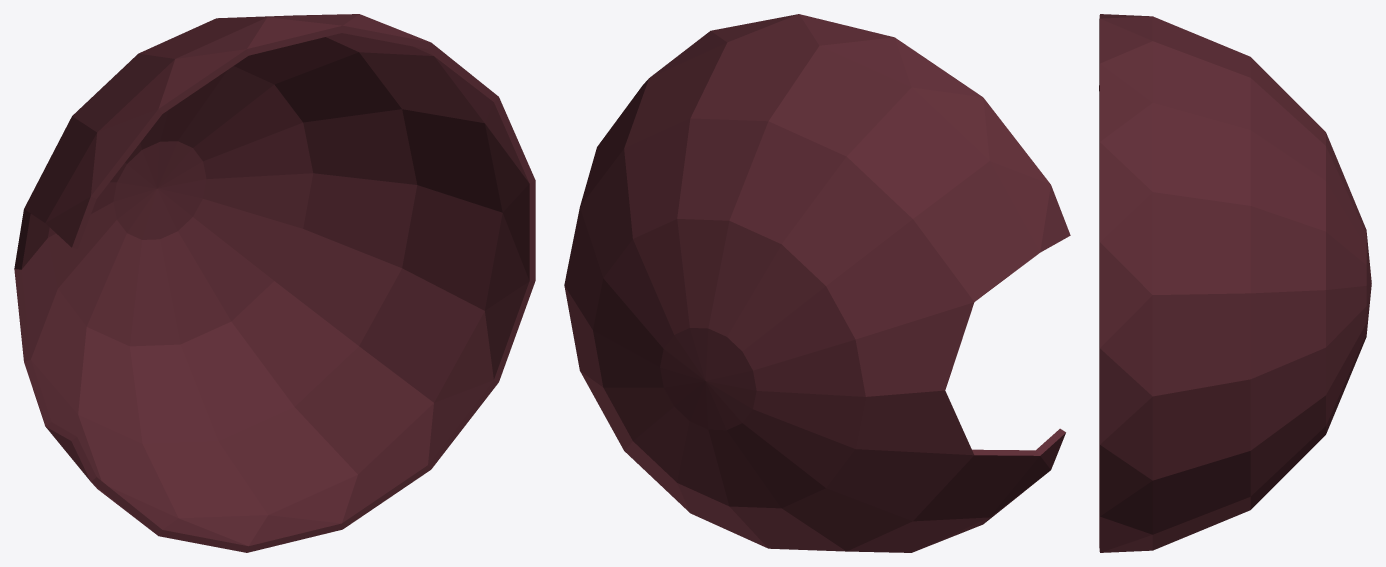
The model's file is CoconutHide.fbx.
3 renders of one model, left to right at view 1: azimuth 30°, elevation 25°; view 2: azimuth 150°, elevation 25°; view 3: azimuth 270°, elevation 25°, orthographic. The views are drawn at different scales.
Visible parts, largest first — view 1: Sphere; view 2: Sphere; view 3: Sphere.
Part boxes in pixels (x1,y1,x2,y2): Sphere: (14,14,535,552); Sphere: (564,14,1070,552); Sphere: (1099,14,1371,552).
Size of the model in its own units: 648 by 672 by 343.
